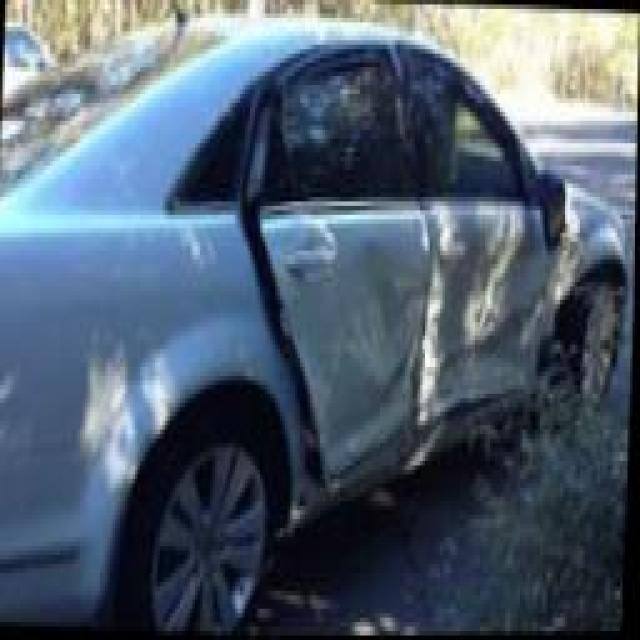Door: (419, 203, 552, 417), (340, 230, 417, 418)
